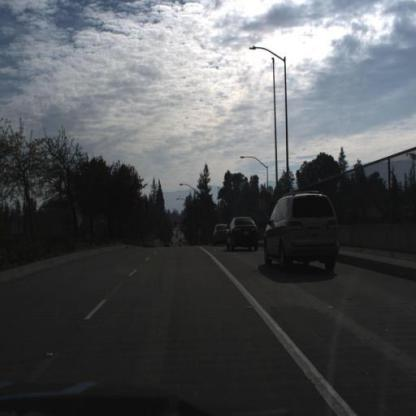car: (263, 193, 342, 278), (226, 217, 260, 253), (214, 224, 230, 245)
